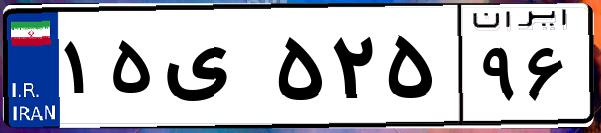1: (57, 26, 110, 100)
2: (330, 28, 385, 110)
5: (270, 28, 330, 110), (385, 28, 445, 110), (110, 28, 158, 98)
6: (525, 38, 570, 115)
9: (475, 38, 525, 113)
ی: (158, 20, 270, 120)
